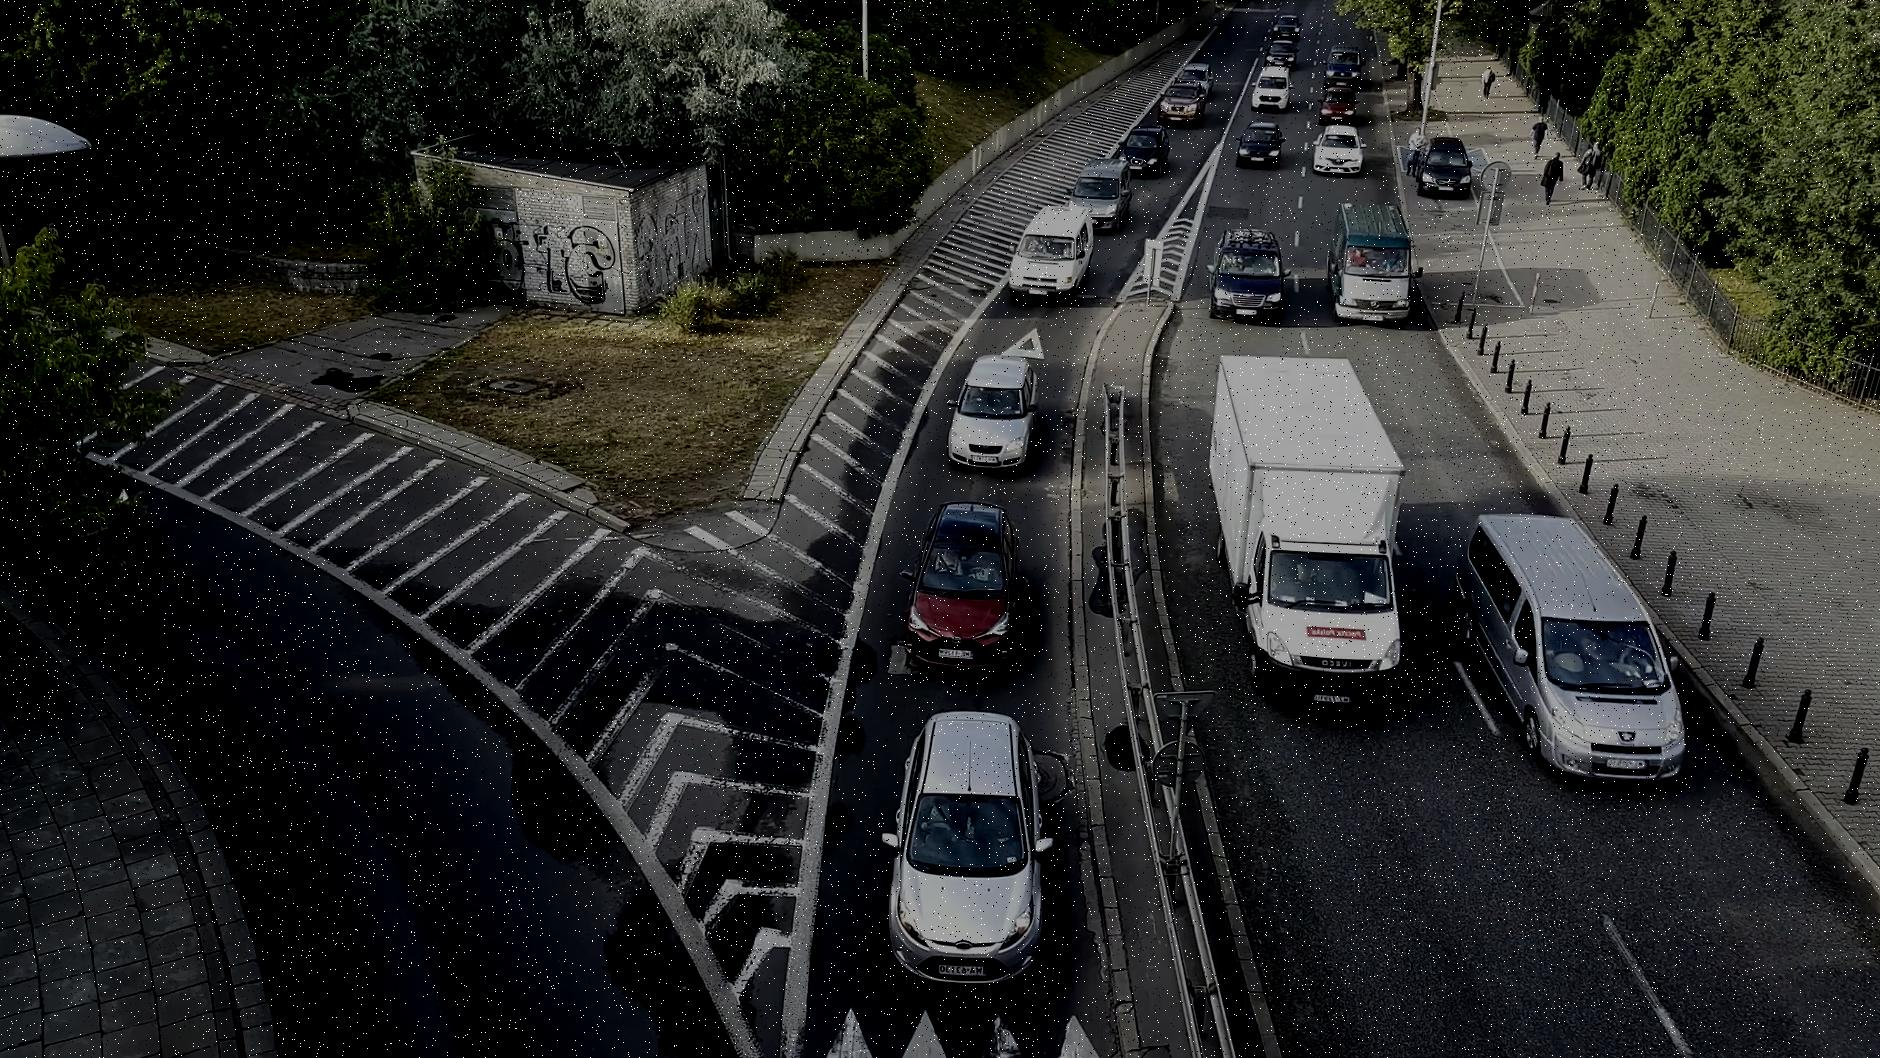car: (1451, 501, 1698, 794), (878, 705, 1050, 988), (894, 499, 1025, 678), (939, 350, 1046, 469), (999, 196, 1105, 307), (1323, 192, 1413, 324), (1207, 217, 1290, 320), (1416, 133, 1477, 192), (1083, 152, 1135, 221), (1309, 120, 1369, 180), (1234, 115, 1290, 172), (1119, 123, 1174, 176), (1250, 59, 1298, 115), (1161, 70, 1207, 125), (1326, 80, 1361, 116)
truck: (1202, 345, 1411, 717)
